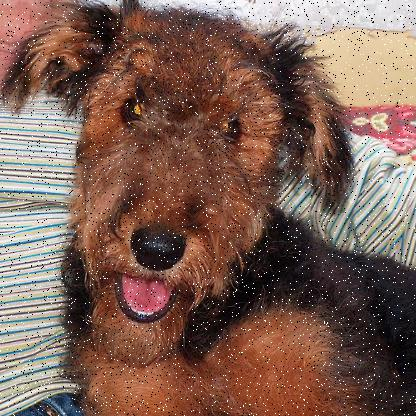dog: (12, 0, 384, 402)
